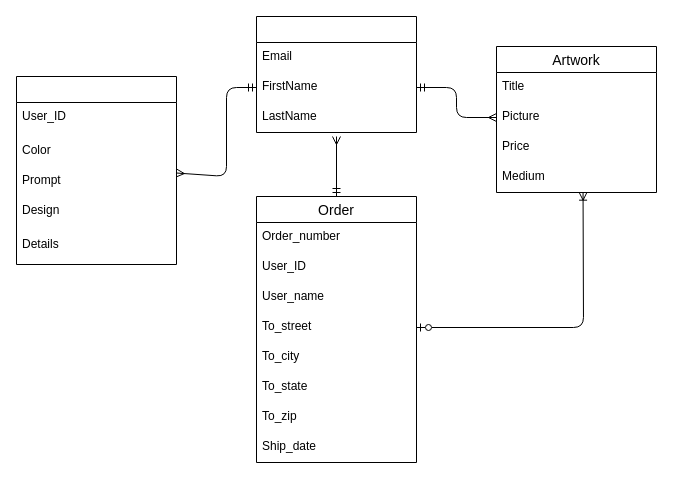
Some shapes in this 673 by 479 pixel diagram are drawn without their labels. Each missing label, with the box of its shape:
Request: (16, 76, 176, 264)
User: (256, 16, 416, 132)
